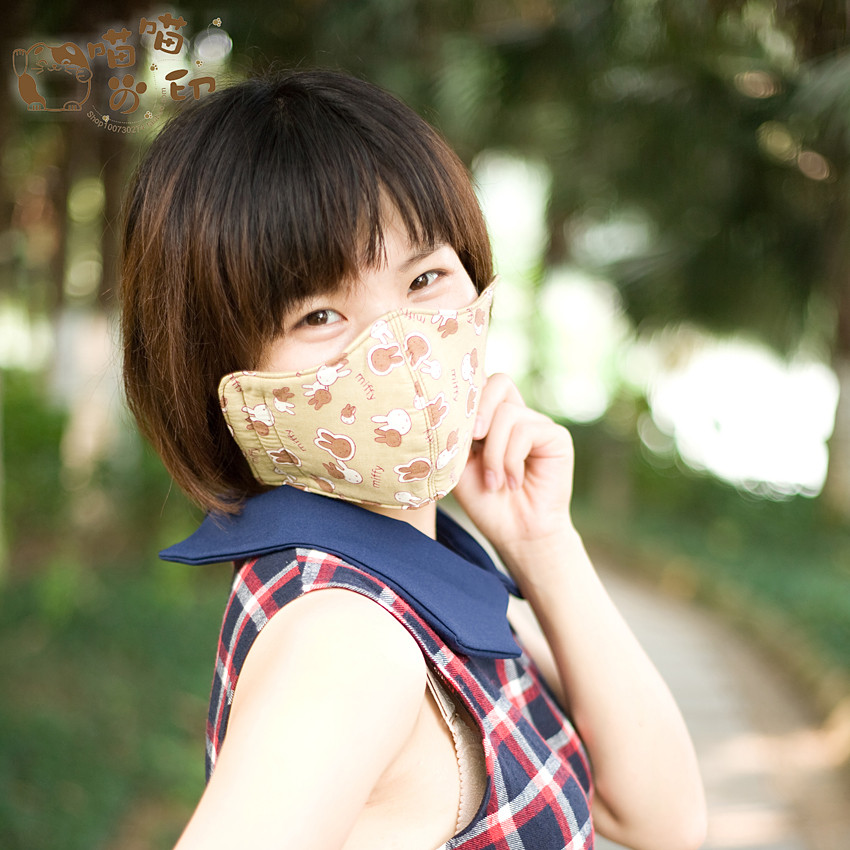face_mask: (254, 183, 484, 502)
